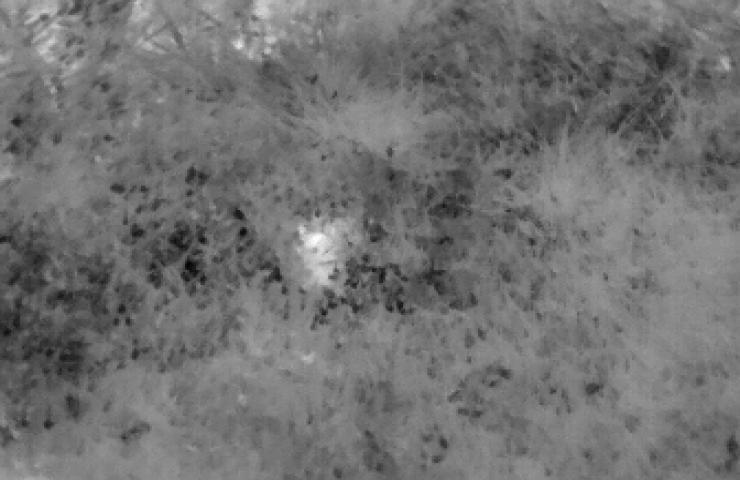landmines: (287, 223, 361, 289)
